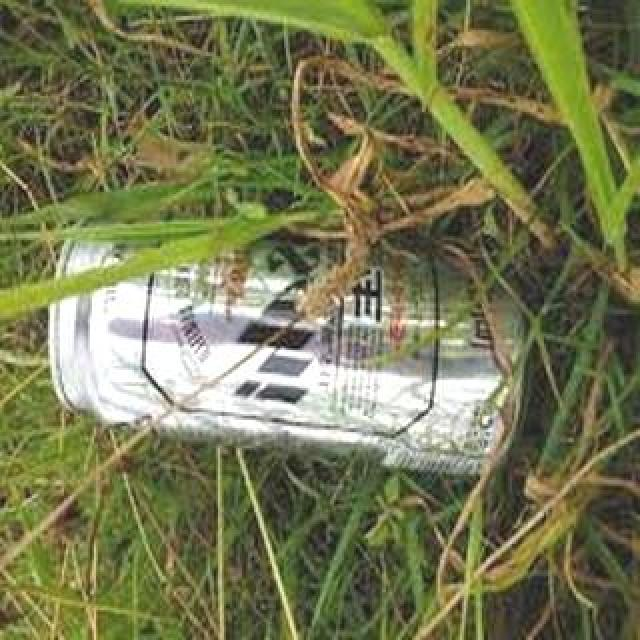Can: (48, 199, 540, 483)
